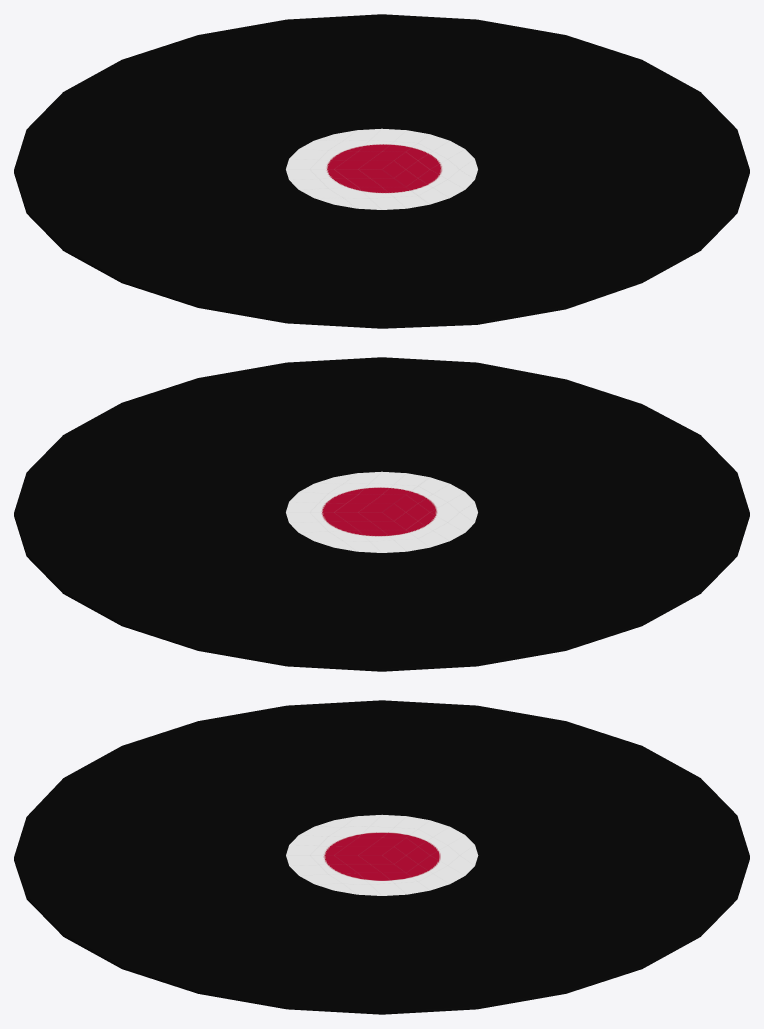
The model's file is JAPANFLagVinyl 1.fbx.
3 renders of one model, top to bottom at view 1: azimuth 30°, elevation 25°; view 2: azimuth 150°, elevation 25°; view 3: azimuth 270°, elevation 25°, orthographic.
Parts seen in each view (by area): view 1: VinylMEXICO2; view 2: VinylMEXICO2; view 3: VinylMEXICO2.
Part boxes in pixels (x1,y1,x2,y2): VinylMEXICO2: [14, 14, 749, 328]; VinylMEXICO2: [14, 357, 749, 671]; VinylMEXICO2: [14, 700, 749, 1014].
Bounding box in the file's own units: 7.65 × 0.0592 × 7.65.
Materials: 2 (1 with a texture image).
